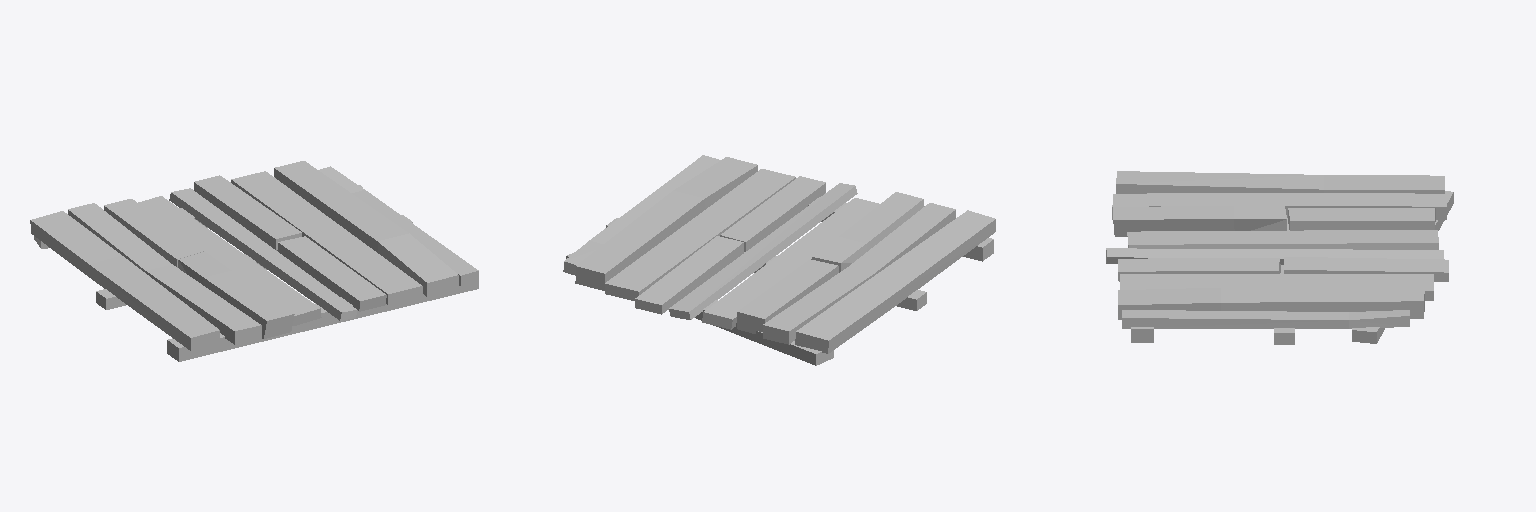
The model's file is Raft.obj.
3 views of the same model, side by side, from view 1: azimuth 30°, elevation 25°; view 2: azimuth 150°, elevation 25°; view 3: azimuth 270°, elevation 25° (orthographic).
Parts seen in each view (by area): view 1: Cube.001_Cube.015; view 2: Cube.001_Cube.015; view 3: Cube.001_Cube.015.
Boxes of the visible parts, x1,y1,x2,y2 form: Cube.001_Cube.015: [30, 161, 478, 361]; Cube.001_Cube.015: [563, 155, 995, 365]; Cube.001_Cube.015: [1106, 171, 1453, 344].
Bounding box in the file's own units: 2.14 × 0.1925 × 2.08.